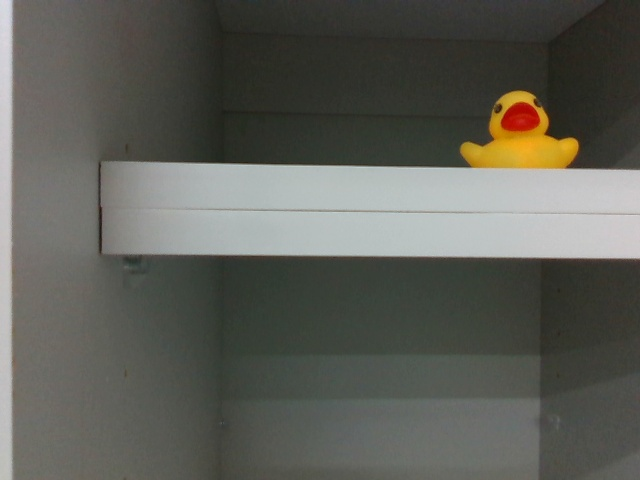duck: (460, 80, 585, 173)
